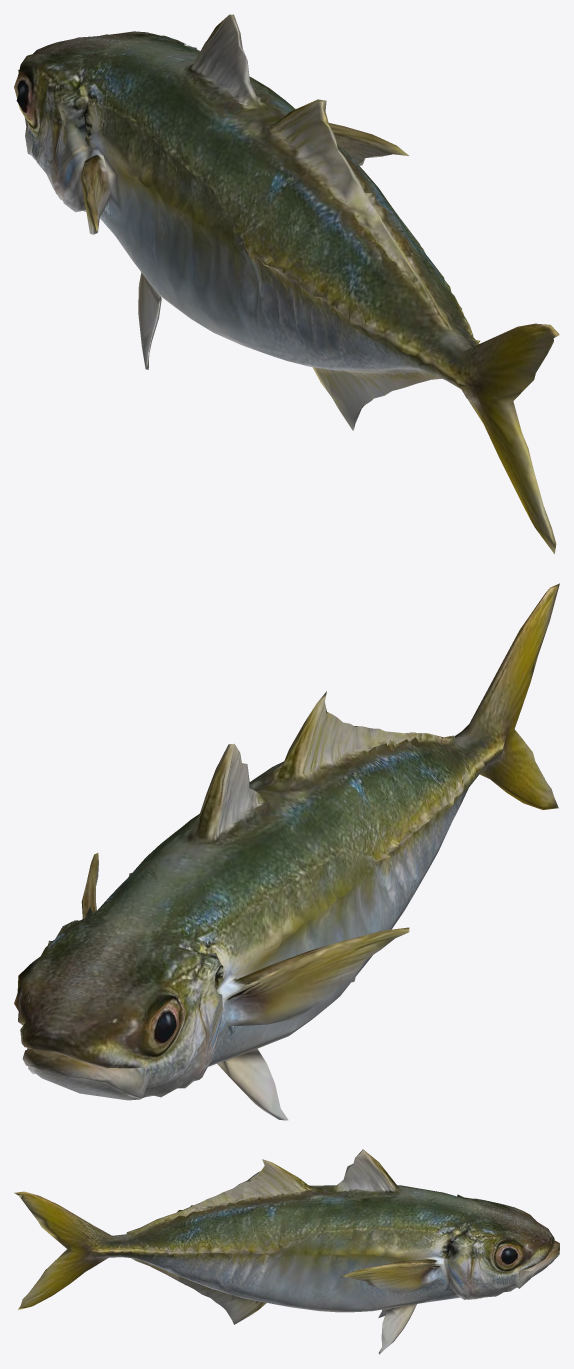
Rendered from jack.glb.
The picture shows the model from 3 angles, top to bottom: view 1: azimuth 30°, elevation 25°; view 2: azimuth 150°, elevation 25°; view 3: azimuth 270°, elevation 25°; orthographic projection. The views are drawn at different scales.
Visible parts, largest first — view 1: tripo_node_7a0143de-db7c-47e3-8899-79381aa7abb9; view 2: tripo_node_7a0143de-db7c-47e3-8899-79381aa7abb9; view 3: tripo_node_7a0143de-db7c-47e3-8899-79381aa7abb9.
Part boxes in pixels (x1,y1,x2,y2): tripo_node_7a0143de-db7c-47e3-8899-79381aa7abb9: [14, 14, 559, 553]; tripo_node_7a0143de-db7c-47e3-8899-79381aa7abb9: [14, 583, 559, 1120]; tripo_node_7a0143de-db7c-47e3-8899-79381aa7abb9: [14, 1149, 559, 1354].
Size of the model in its own units: 0.3515 by 0.3769 by 1.
Materials: 1 (1 with a texture image).
